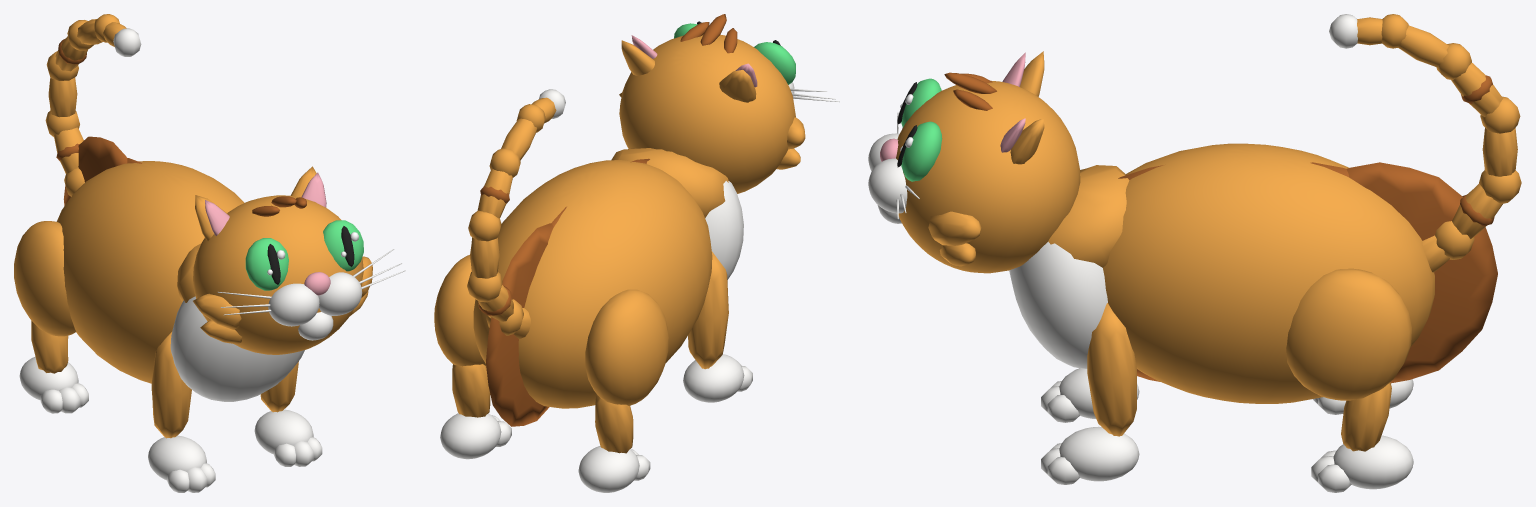
Rendered from Mittens.fbx.
3 views of the same model, side by side, from view 1: azimuth 30°, elevation 25°; view 2: azimuth 150°, elevation 25°; view 3: azimuth 270°, elevation 25° (orthographic). The views are drawn at different scales.
Visible parts, largest first — view 1: Mittens; view 2: Mittens; view 3: Mittens.
Part boxes in pixels (<box>): Mittens: <box>14,14,405,492</box>; Mittens: <box>434,14,839,492</box>; Mittens: <box>868,14,1521,492</box>.
Size of the model in its own units: 21.26 by 35.6 by 48.83.
